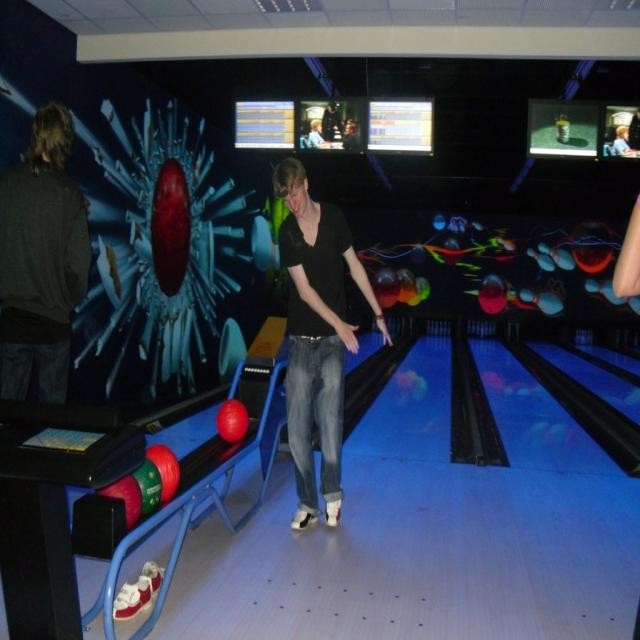Ball: (99, 473, 144, 533), (146, 444, 180, 504), (132, 457, 163, 516), (215, 401, 250, 442), (481, 276, 507, 316), (376, 268, 401, 308), (398, 268, 417, 302), (416, 276, 429, 302), (408, 285, 422, 307)
